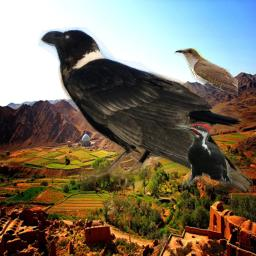Crow: (38, 24, 253, 194)
Cuckoo: (173, 48, 238, 96)
Woodpecker: (175, 119, 232, 186)
